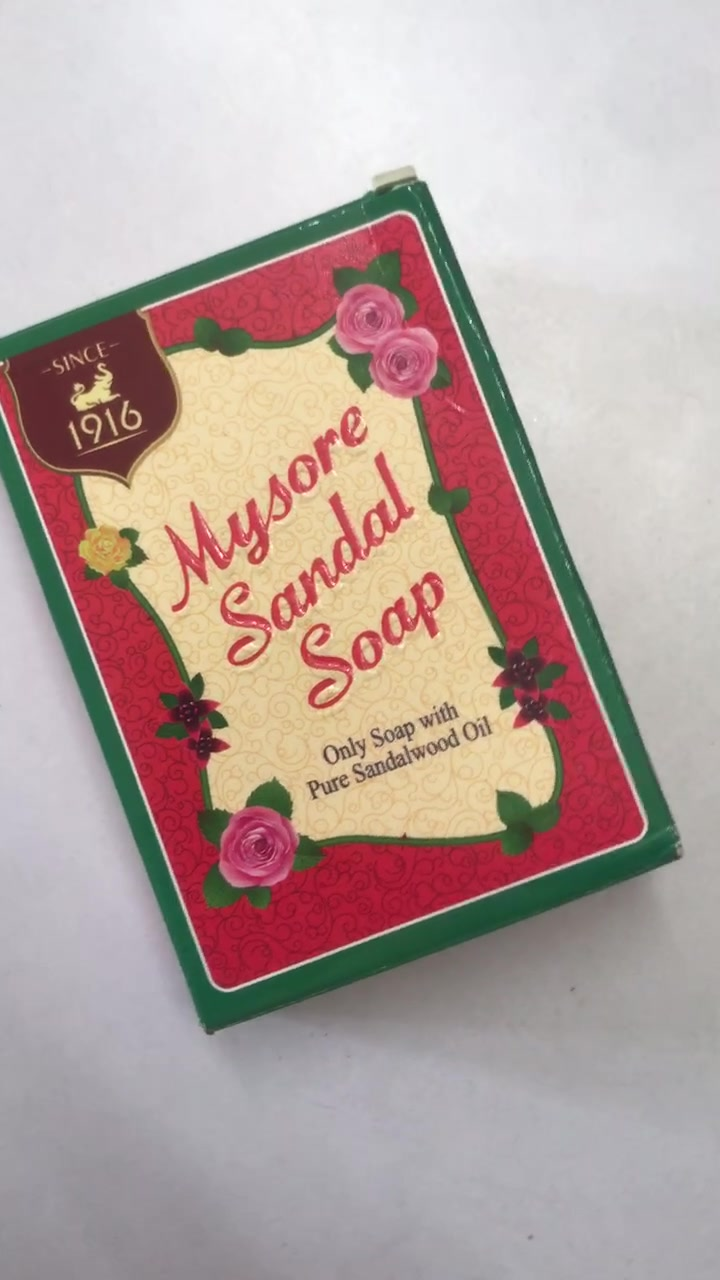mysore sandal soap: (2, 189, 678, 1031)
